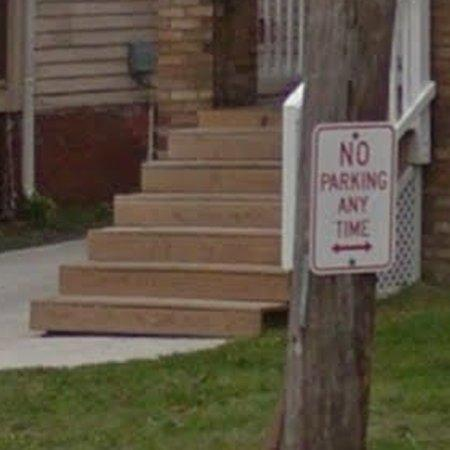stairs: (31, 109, 289, 338)
